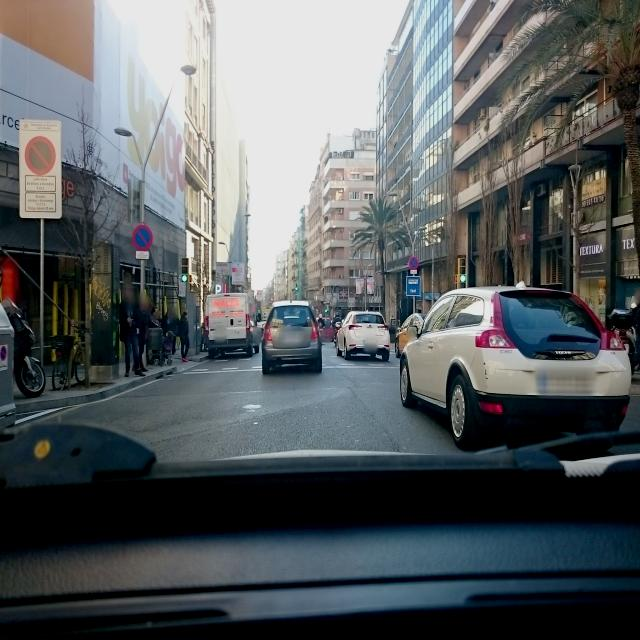bike: (51, 324, 91, 390)
car: (398, 284, 632, 451), (261, 299, 323, 375), (206, 292, 258, 359), (336, 310, 390, 362), (395, 313, 427, 359)
